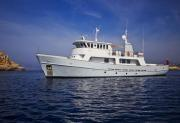yacht: (34, 29, 165, 79)
